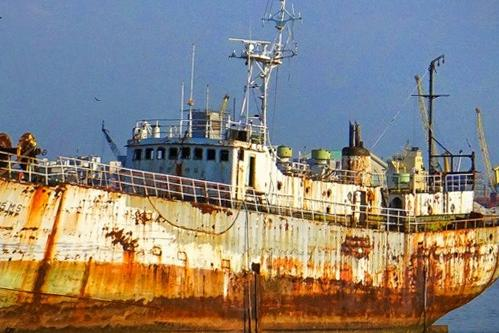rust: (72, 265, 391, 333), (405, 238, 490, 296), (30, 187, 53, 310), (102, 216, 140, 257), (187, 200, 237, 226), (337, 235, 377, 260)
